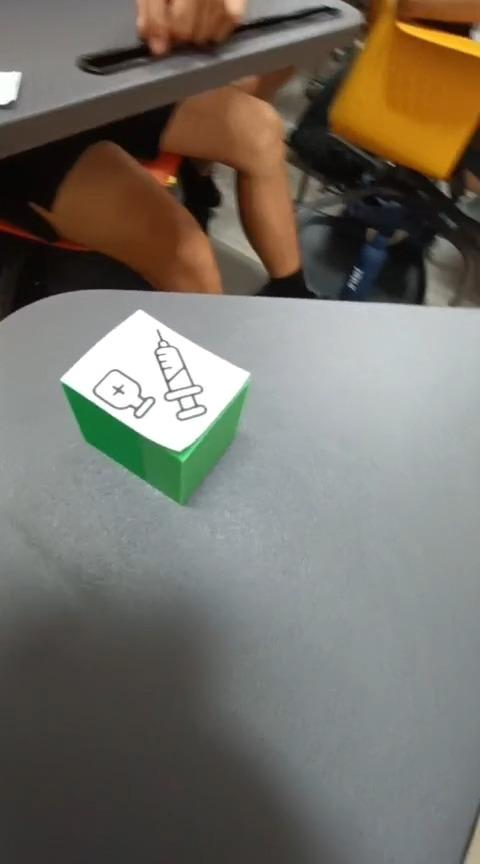antiseptic cream: (58, 307, 251, 506)
